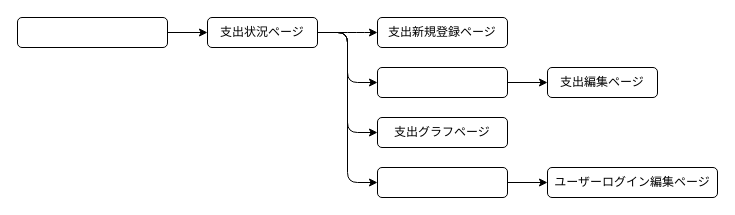
This 735x215 diagram has some shape labels left out. The shapes that lost their labels are listed below. From the top down, each one's centre as x and y in pixels, then its label:
At (92,32): "ユーザーログインページ".
At (442,82): "日付別支出詳細ページ".
At (442,182): "ユーザーマイページ".
